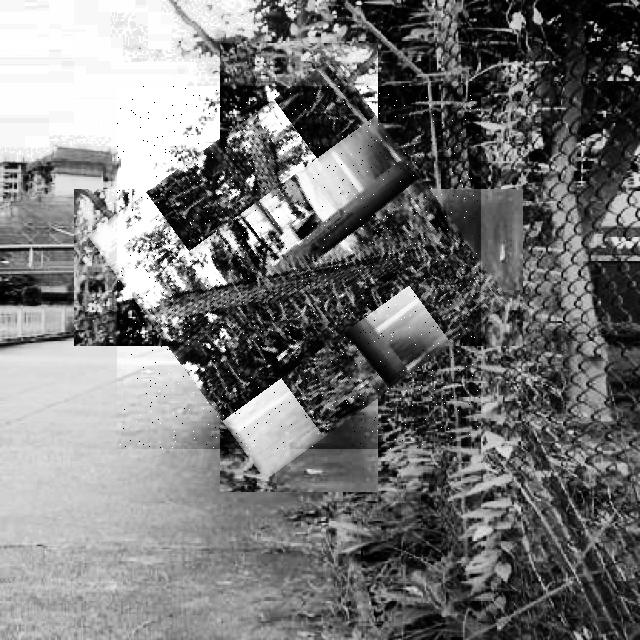anomaly-fence: (117, 86, 481, 449)
